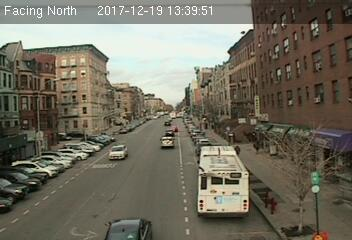bus: (196, 146, 249, 219)
car: (103, 217, 154, 240), (109, 144, 127, 160), (159, 136, 173, 147)
